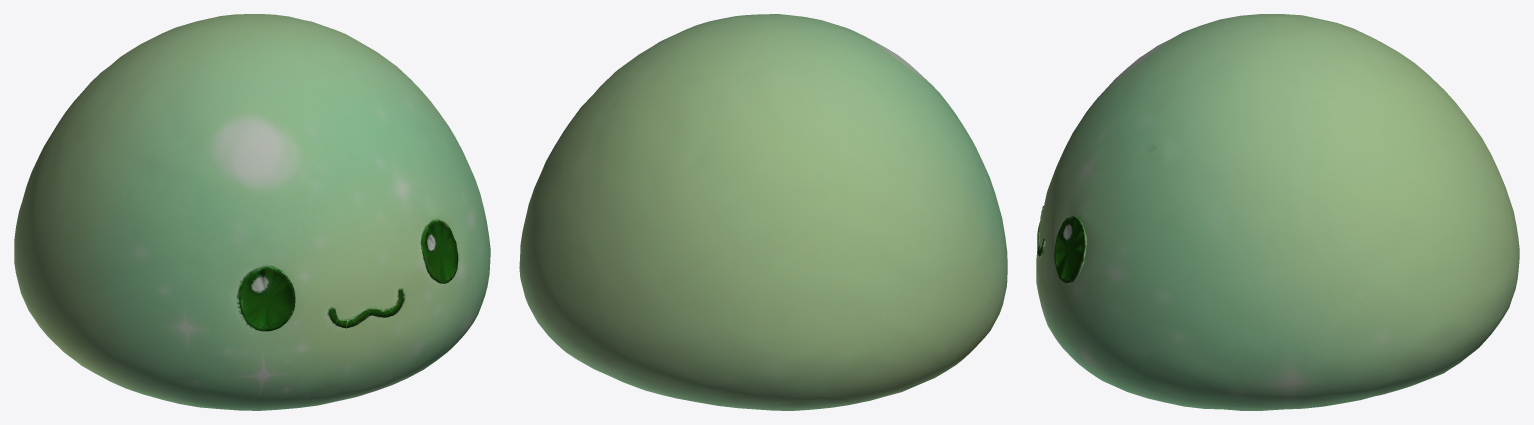
Rendered from cute+slime+3d+model.glb.
The picture shows the model from 3 angles, left to right: view 1: azimuth 30°, elevation 25°; view 2: azimuth 150°, elevation 25°; view 3: azimuth 270°, elevation 25°; orthographic projection. The views are drawn at different scales.
Visible parts, largest first — view 1: tripo_node_5c80c169-4843-4c09-978c-06a7ce99670b; view 2: tripo_node_5c80c169-4843-4c09-978c-06a7ce99670b; view 3: tripo_node_5c80c169-4843-4c09-978c-06a7ce99670b.
Part boxes in pixels (x1,y1,x2,y2): tripo_node_5c80c169-4843-4c09-978c-06a7ce99670b: (14,14,490,410); tripo_node_5c80c169-4843-4c09-978c-06a7ce99670b: (519,14,1007,410); tripo_node_5c80c169-4843-4c09-978c-06a7ce99670b: (1036,14,1519,410).
Bounding box in the file's own units: 0.998 × 0.709 × 0.998.
Materials: 1 (1 with a texture image).
